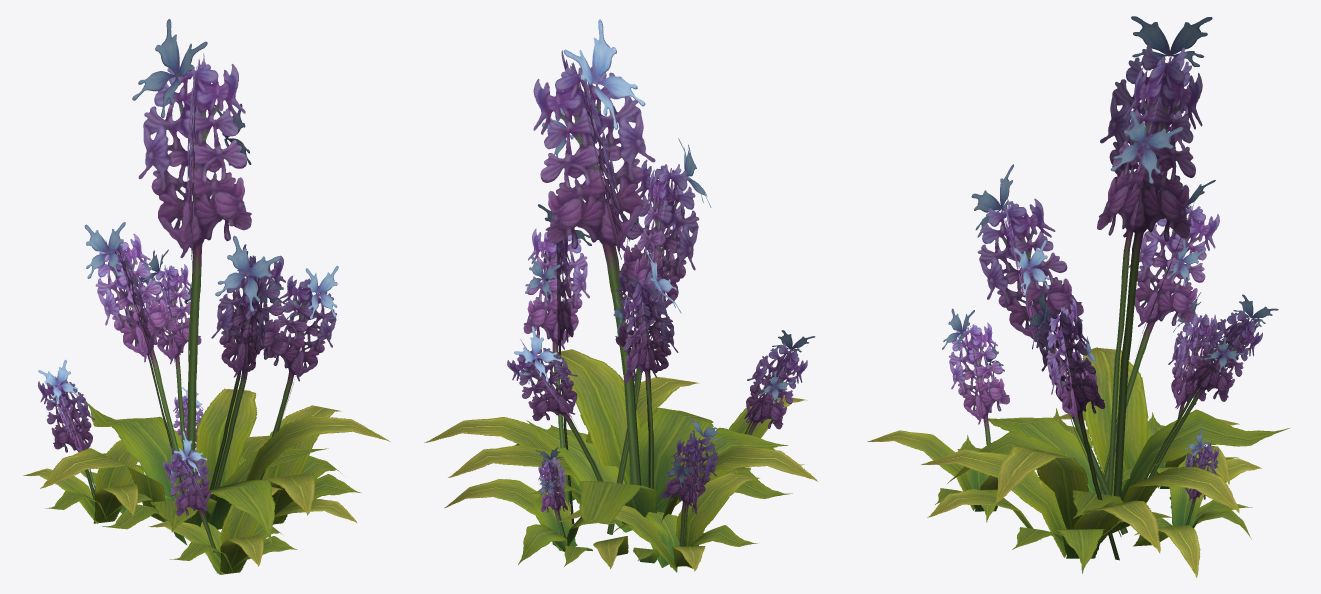
Rendered from 1001_Plant_huacao_14.FBX.
3 views of the same model, side by side, from view 1: azimuth 30°, elevation 25°; view 2: azimuth 150°, elevation 25°; view 3: azimuth 270°, elevation 25° (orthographic). The views are drawn at different scales.
Parts seen in each view (by area): view 1: 1001_Plant_huacao_14; view 2: 1001_Plant_huacao_14; view 3: 1001_Plant_huacao_14.
Boxes of the visible parts, x1=… form: 1001_Plant_huacao_14: x1=23, y1=19, x2=390, y2=574; 1001_Plant_huacao_14: x1=424, y1=19, x2=817, y2=572; 1001_Plant_huacao_14: x1=867, y1=16, x2=1289, y2=577.
Size of the model in its own units: 80.72 by 106 by 80.75.
